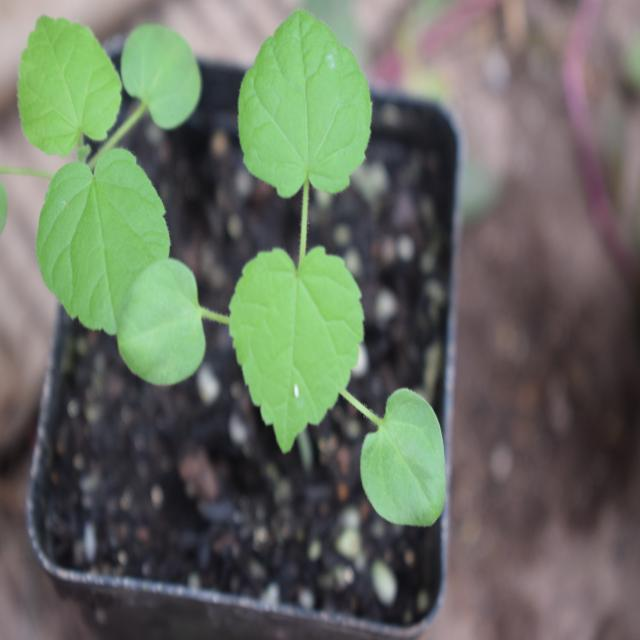abutilon theophrasti: (148, 24, 470, 500)
